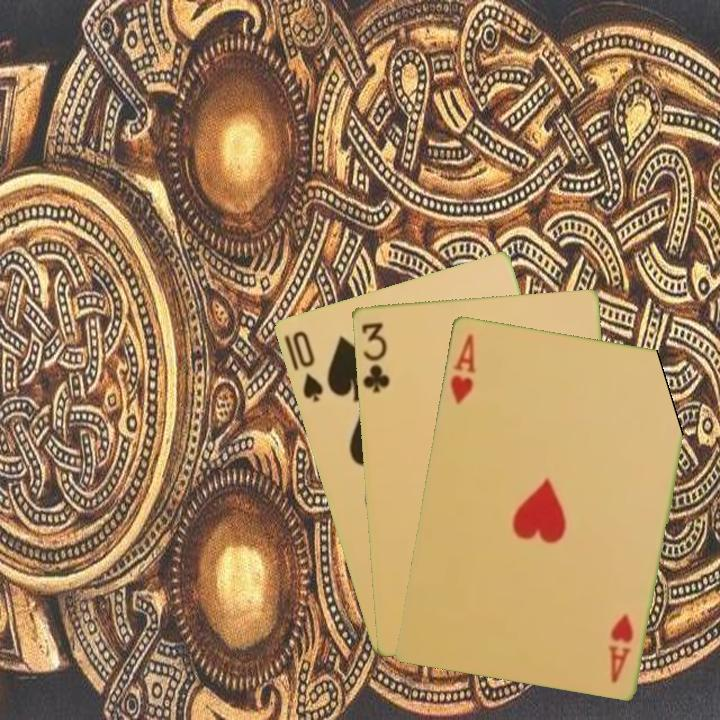10s: (288, 327, 326, 405)
3c: (357, 318, 392, 395)
Ah: (446, 330, 478, 407), (606, 609, 636, 686)
